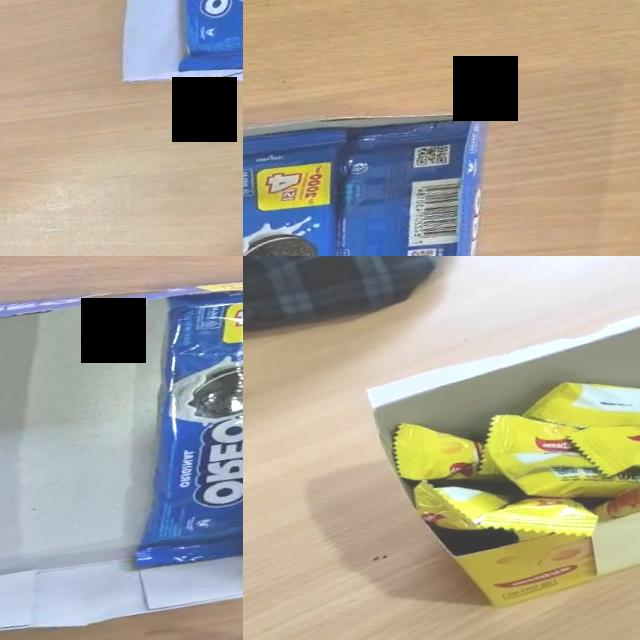Ahh: (487, 414, 591, 480), (393, 423, 496, 479), (527, 382, 640, 427), (414, 481, 510, 529), (480, 497, 598, 536), (515, 465, 640, 497), (573, 425, 640, 474)
Oreo: (87, 270, 243, 575), (278, 106, 522, 256), (243, 116, 397, 256)
